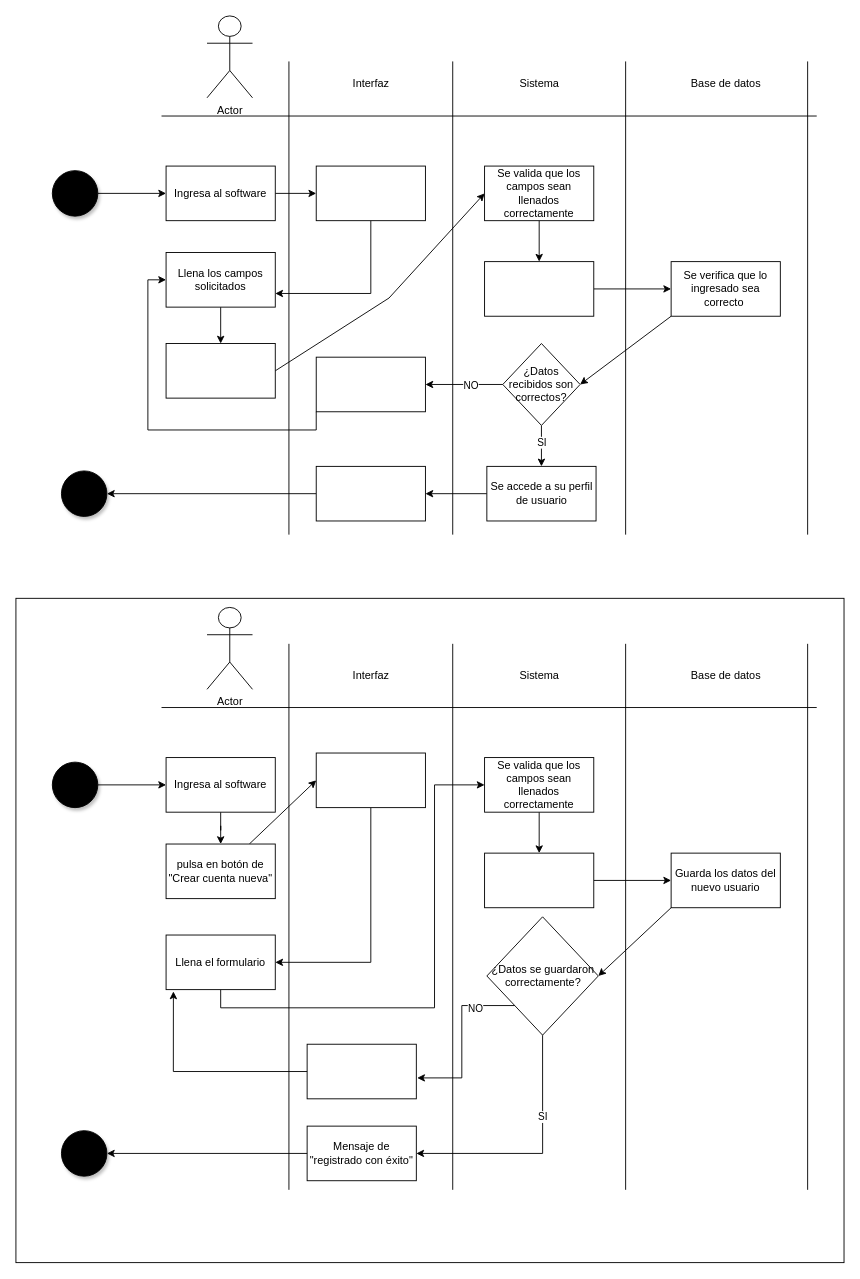
Some shapes in this 860 by 1279 pixel diagram are drawn without their labels. The centre of each missing label's shape, as x and y in pixels:
Clic en el botón de "Iniciar de sesión": the point at 220,370
Enviar los datos del formulario: the point at 539,880
Envía consulta de datos que coincidan con lo ingresado: the point at 539,288
Mensaje de "Lo sentimos, ocurrió un error": the point at 361,1071
Mensaje de "Usuario y contraseñas incorrecta": the point at 370,384
Se despliega el formulario de "Crear cuenta": the point at 370,780
Se muestra su perfil de inicio según sus credenciales: the point at 370,493
Se solicita el llenado de los campos de correo y contraseña: the point at 370,193
